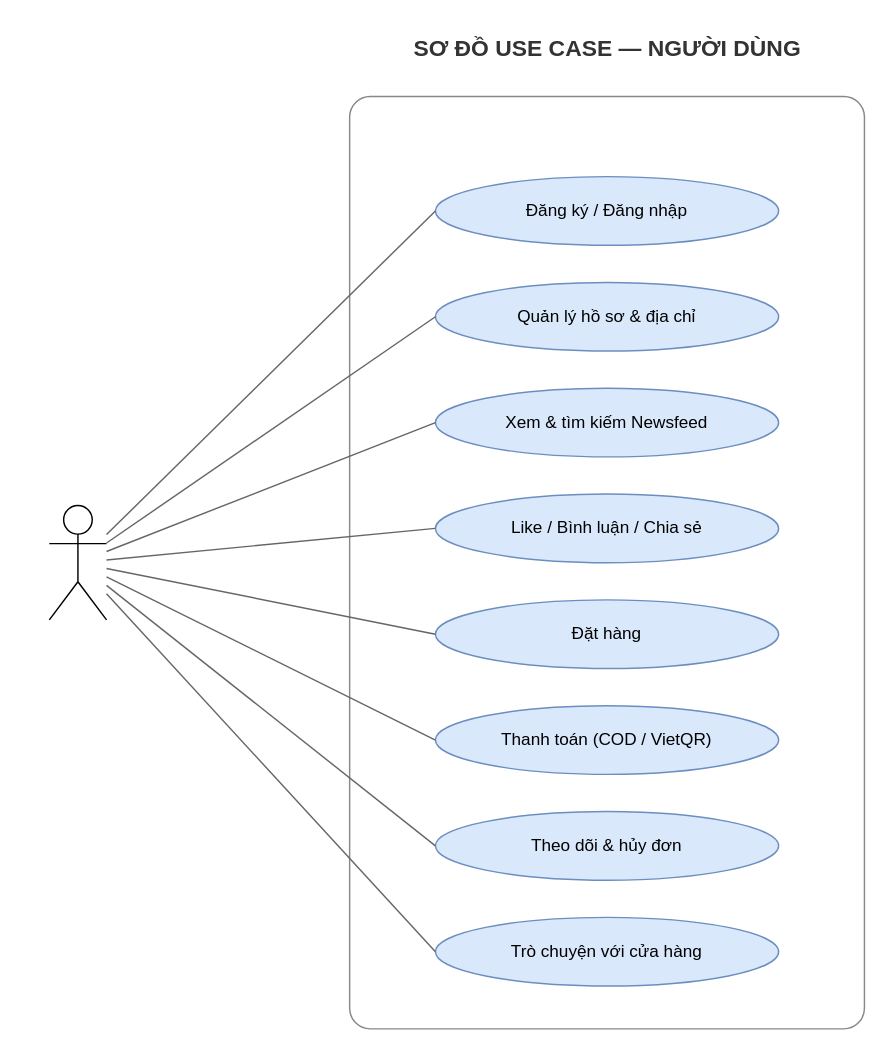
This 889x1054 diagram has some shape labels left out. The shapes that lost their labels are listed below. From the top down, each one's box as (x1, y1, x2, y2) in pixels, then its label:
(48, 504, 107, 620): Người dùng
(348, 95, 864, 1029): Hệ thống URMYFOOD
